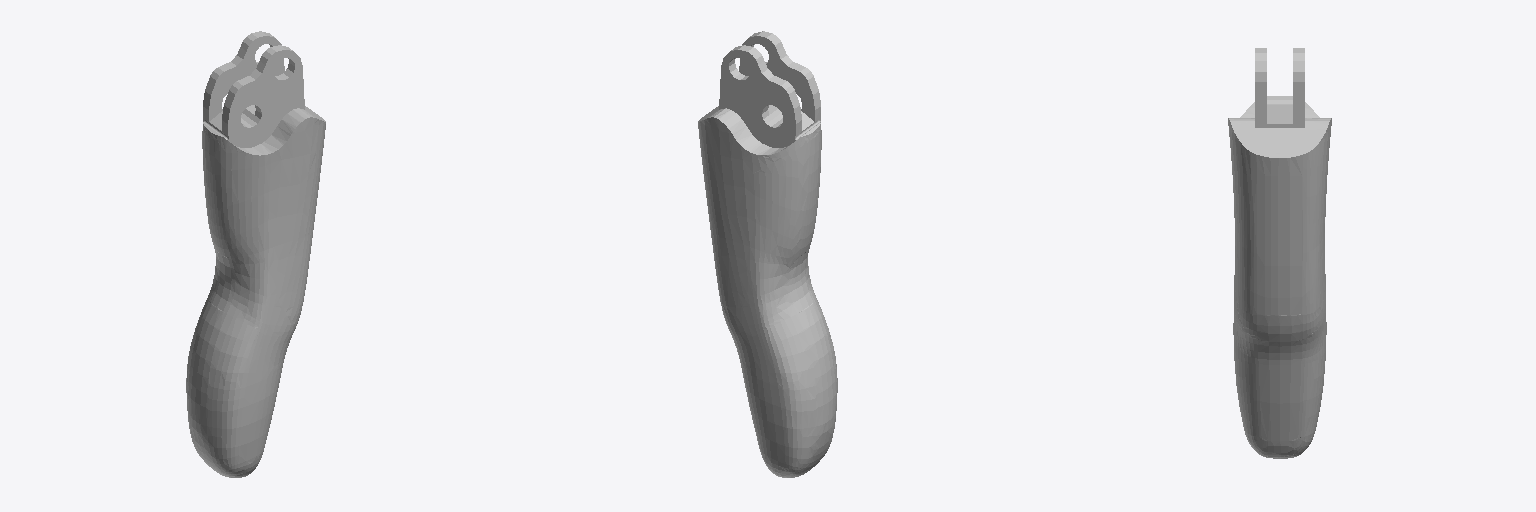
3 views of the same model, side by side, from view 1: azimuth 30°, elevation 25°; view 2: azimuth 150°, elevation 25°; view 3: azimuth 270°, elevation 25° (orthographic).
Visible parts, largest first — view 1: Link18_L; view 2: Link18_L; view 3: Link18_L.
Boxes of the visible parts, x1=… form: Link18_L: x1=186, y1=31, x2=325, y2=477; Link18_L: x1=698, y1=31, x2=837, y2=477; Link18_L: x1=1228, y1=48, x2=1331, y2=458.
Bounding box in the file's own units: 0.017 × 0.0565 × 0.0126.